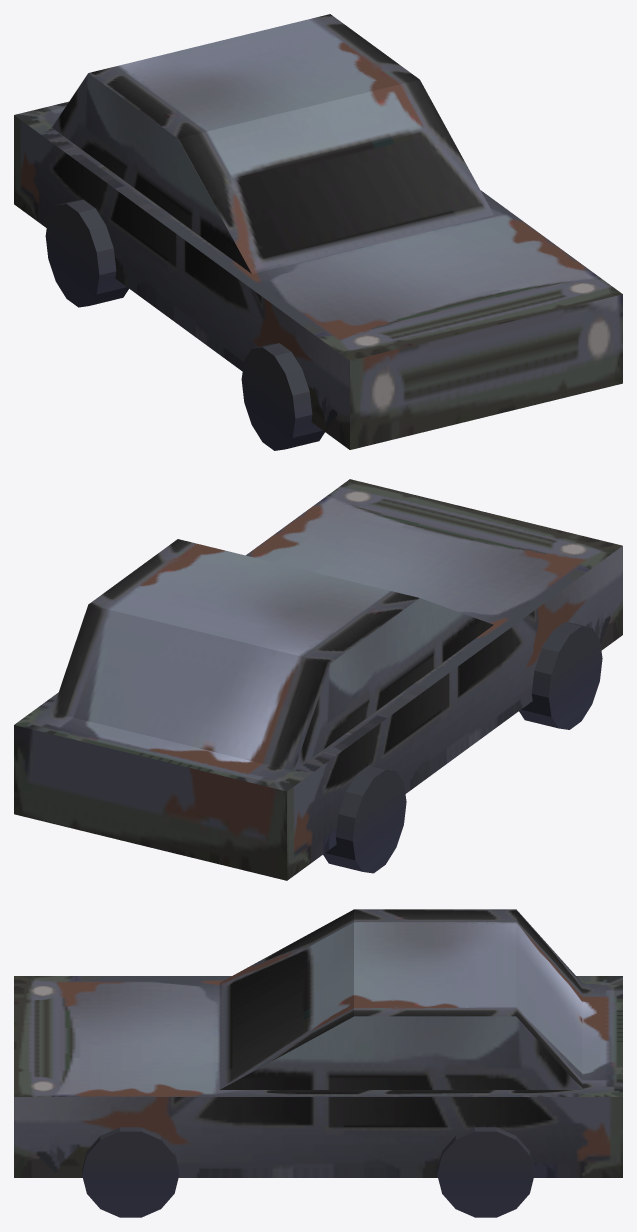
File: Building_AncientRustedCar__D.obj
3 renders of one model, top to bottom at view 1: azimuth 30°, elevation 25°; view 2: azimuth 150°, elevation 25°; view 3: azimuth 270°, elevation 25°, orthographic. The views are drawn at different scales.
Parts seen in each view (by area): view 1: Body; view 2: Body; view 3: Body.
Part boxes in pixels (x1,y1,x2,y2): Body: (14,14,622,450); Body: (14,479,622,880); Body: (14,909,622,1217).
Bounding box in the file's own units: 1.93 × 1.29 × 3.75.
1 material, 1 textured.
